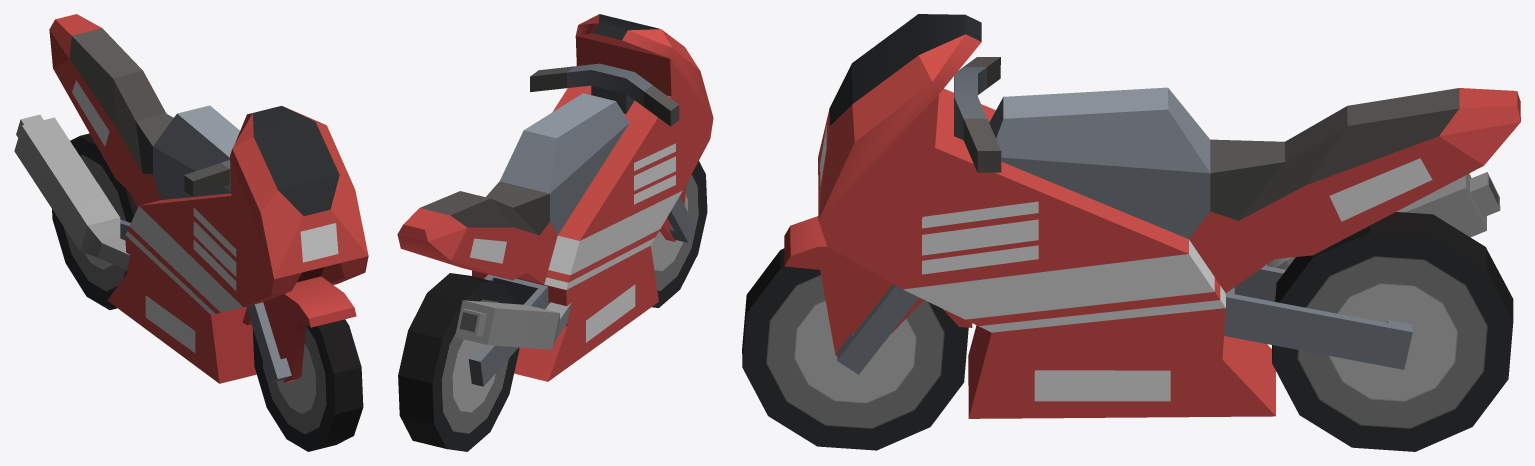
File: motorbike.glb
3 views of the same model, side by side, from view 1: azimuth 30°, elevation 25°; view 2: azimuth 150°, elevation 25°; view 3: azimuth 270°, elevation 25° (orthographic). The views are drawn at different scales.
Visible parts, largest first — view 1: SR_Veh_MotorBike_Red, SR_Veh_MotorBike_Wheel_F, SR_Veh_MotorBike_Wheel_R; view 2: SR_Veh_MotorBike_Red, SR_Veh_MotorBike_Wheel_R, SR_Veh_MotorBike_Wheel_F; view 3: SR_Veh_MotorBike_Red, SR_Veh_MotorBike_Wheel_R, SR_Veh_MotorBike_Wheel_F.
Boxes of the visible parts, bbox=[...] form: SR_Veh_MotorBike_Red: bbox=[14, 14, 368, 383]; SR_Veh_MotorBike_Wheel_F: bbox=[252, 319, 363, 451]; SR_Veh_MotorBike_Wheel_R: bbox=[52, 133, 137, 310]; SR_Veh_MotorBike_Red: bbox=[397, 14, 713, 386]; SR_Veh_MotorBike_Wheel_R: bbox=[398, 273, 519, 451]; SR_Veh_MotorBike_Wheel_F: bbox=[651, 161, 707, 308]; SR_Veh_MotorBike_Red: bbox=[784, 14, 1520, 418]; SR_Veh_MotorBike_Wheel_R: bbox=[1272, 212, 1513, 451]; SR_Veh_MotorBike_Wheel_F: bbox=[742, 248, 968, 450].
Bounding box in the file's own units: 0.0749 × 0.1539 × 0.2608.
Materials: 1 (1 with a texture image).
